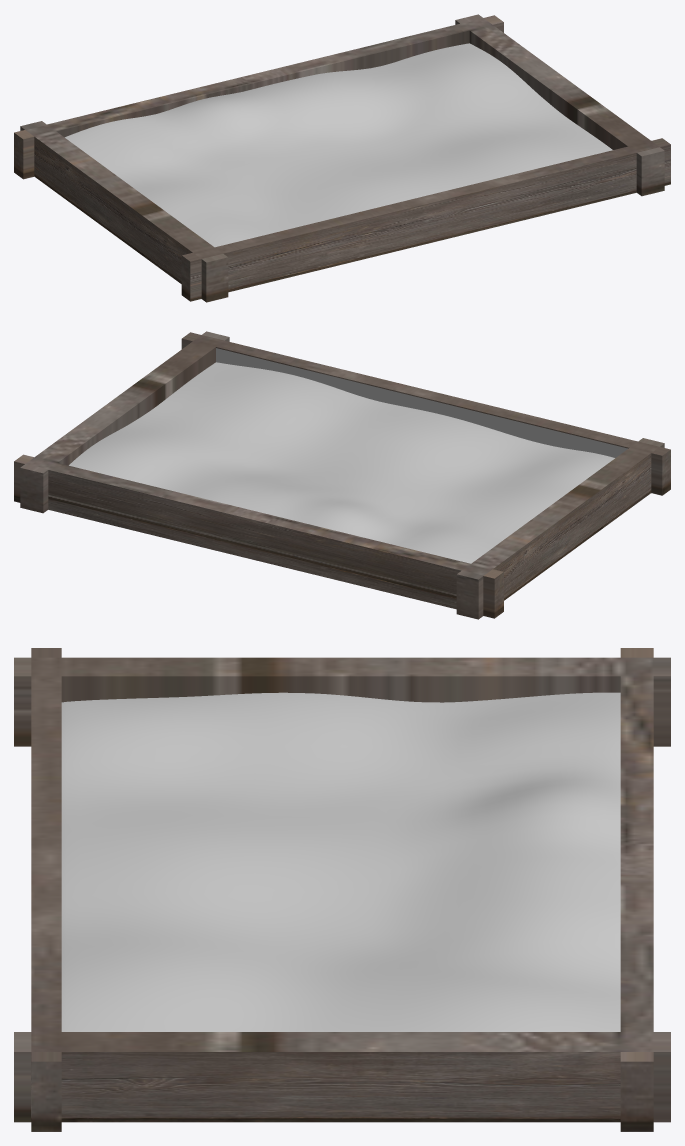
The model's file is Planter.fbx.
The picture shows the model from 3 angles, top to bottom: view 1: azimuth 30°, elevation 25°; view 2: azimuth 150°, elevation 25°; view 3: azimuth 270°, elevation 25°; orthographic projection. The views are drawn at different scales.
Parts seen in each view (by area): view 1: pCube2, pCube1; view 2: pCube2, pCube1; view 3: pCube2, pCube1.
Part boxes in pixels (x1,y1,x2,y2): pCube2: (65,43,612,247); pCube1: (14,14,670,302); pCube2: (69,362,614,563); pCube1: (14,331,670,619); pCube2: (61,692,620,1031); pCube1: (14,648,670,1131).
Bounding box in the file's own units: 6.29 × 0.5239 × 4.22.
